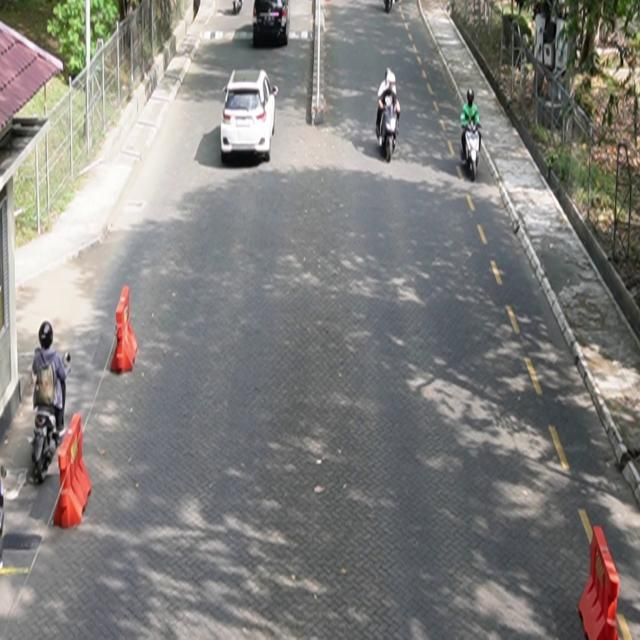car: (221, 69, 279, 164), (253, 1, 291, 48)
